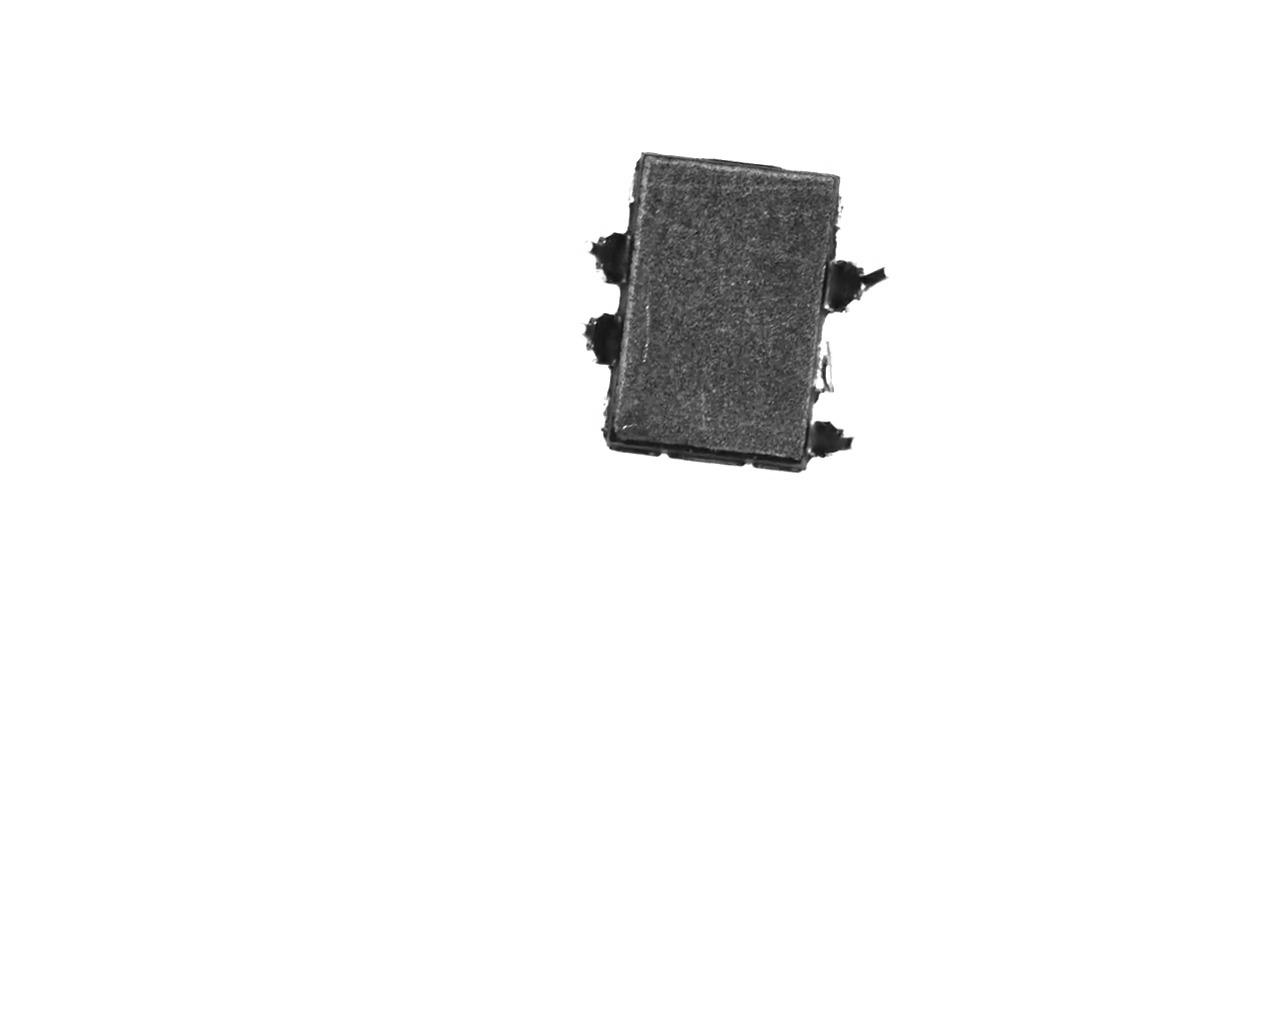brokenLeg: (572, 300, 636, 366), (822, 253, 890, 316), (583, 225, 636, 288), (808, 416, 859, 466)
missingLeg: (812, 334, 840, 400), (590, 370, 618, 433), (831, 183, 856, 245), (619, 171, 643, 229)
